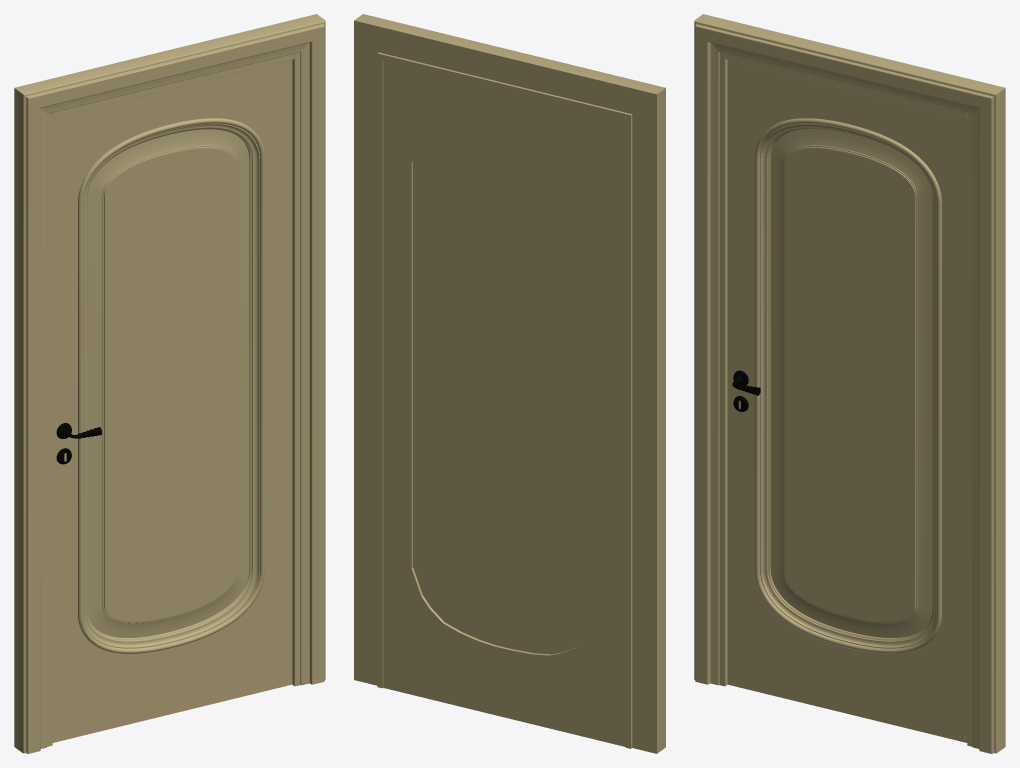
Rendered from Door_N220810.glb.
3 renders of one model, left to right at view 1: azimuth 30°, elevation 25°; view 2: azimuth 150°, elevation 25°; view 3: azimuth 330°, elevation 25°, orthographic.
Visible parts, largest first — view 1: Rectangle0, Box01, Rectangle1, ssss, Circle01; view 2: Rectangle0, Box01, Rectangle1, ssss; view 3: Rectangle0, Box01, Rectangle1, ssss, Circle01.
Boxes of the visible parts, x1,y1,x2,y2 form: Rectangle0: (78,118,264,653); Box01: (52,60,292,742); Rectangle1: (14,14,325,753); ssss: (47,52,300,746); Circle01: (56,423,101,464); Rectangle0: (413,123,597,654); Box01: (383,60,625,746); Rectangle1: (354,14,665,753); ssss: (377,52,632,748); Rectangle0: (755,118,941,653); Box01: (727,60,967,742); Rectangle1: (694,14,1005,753); ssss: (719,52,972,746); Circle01: (732,370,760,411).
Bounding box in the file's own units: 48.06 × 100 × 5.15.
